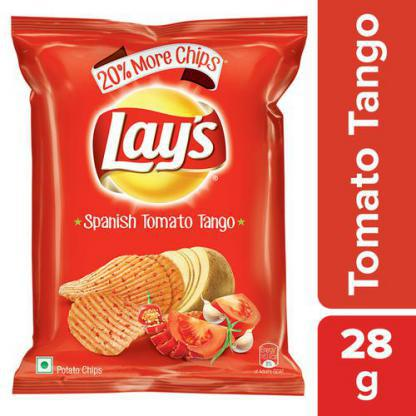tangy_tomato: (9, 14, 311, 398)
